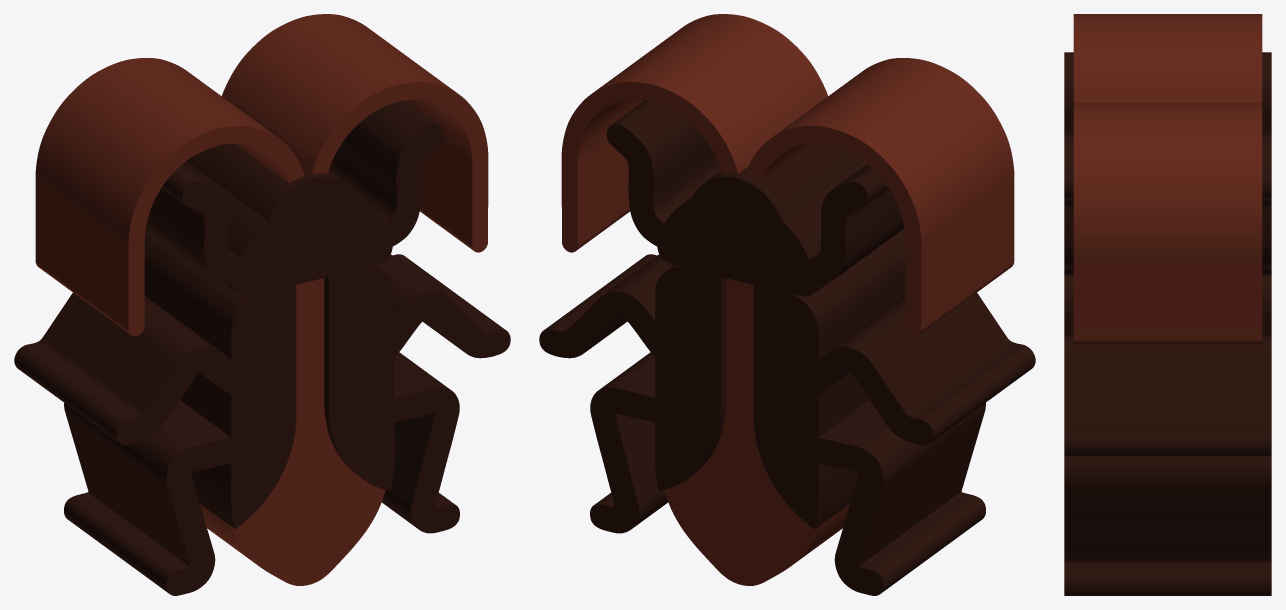
Rendered from U+1FAB3.obj.
The picture shows the model from 3 angles, left to right: view 1: azimuth 30°, elevation 25°; view 2: azimuth 150°, elevation 25°; view 3: azimuth 270°, elevation 25°; orthographic projection.
Parts seen in each view (by area): view 1: U+1FAB3_layer01_obj00, U+1FAB3_layer00_obj00; view 2: U+1FAB3_layer01_obj00, U+1FAB3_layer00_obj00; view 3: U+1FAB3_layer00_obj00, U+1FAB3_layer01_obj00.
Part boxes in pixels (<box>): U+1FAB3_layer01_obj00: <box>14,100,510,595</box>; U+1FAB3_layer00_obj00: <box>35,14,488,585</box>; U+1FAB3_layer01_obj00: <box>539,100,1035,595</box>; U+1FAB3_layer00_obj00: <box>561,14,1014,585</box>; U+1FAB3_layer00_obj00: <box>1073,14,1262,344</box>; U+1FAB3_layer01_obj00: <box>1064,52,1271,595</box>.
Size of the model in its own units: 0.4894 by 0.568 by 0.22.
